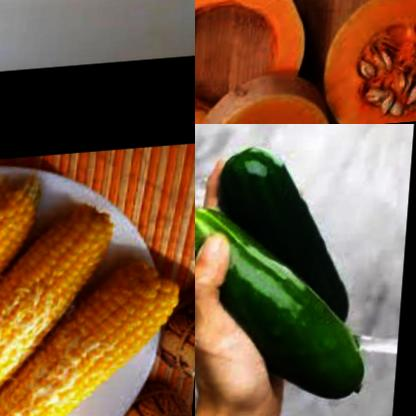corn: (0, 251, 190, 416), (0, 200, 121, 416), (0, 172, 48, 416)
cucumber: (195, 196, 384, 416), (206, 136, 367, 340)
pumpkin: (195, 0, 327, 124), (323, 0, 416, 124), (199, 78, 344, 124)
